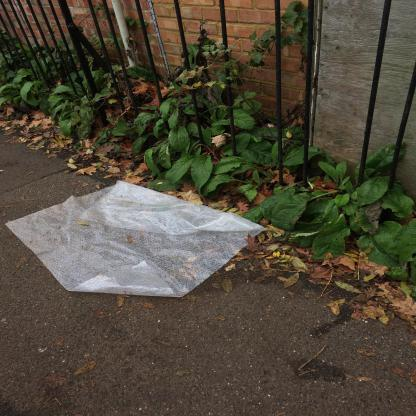plastik: (4, 180, 268, 298)
